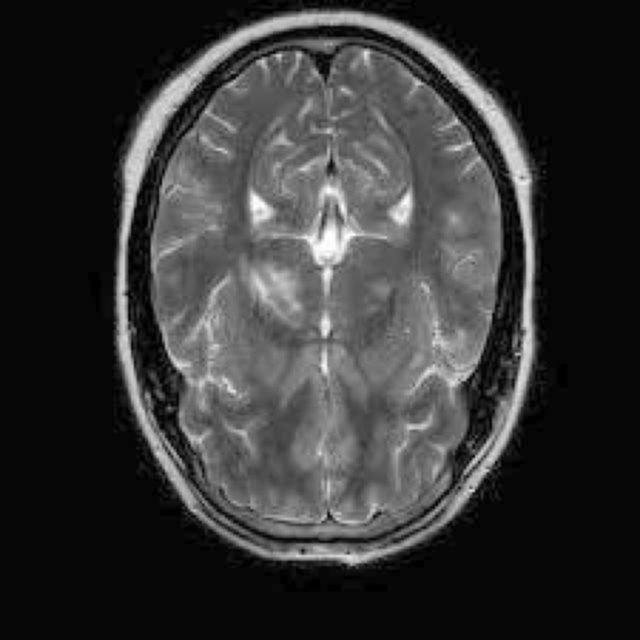glioma tumor: (190, 68, 460, 492)
